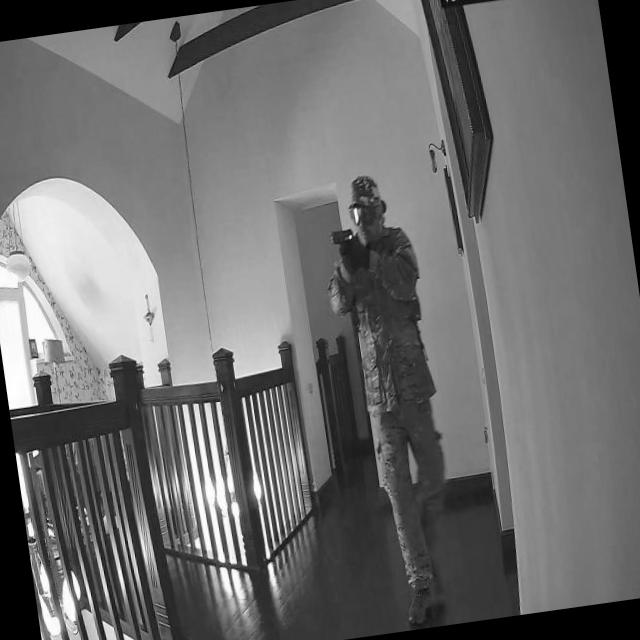gun: (327, 222, 358, 253)
person with a gun: (319, 164, 468, 630)
